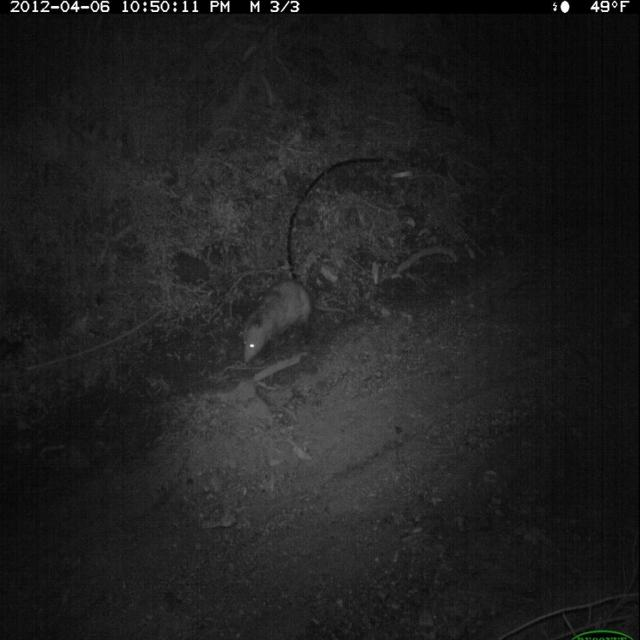opossum: (229, 257, 320, 392)
